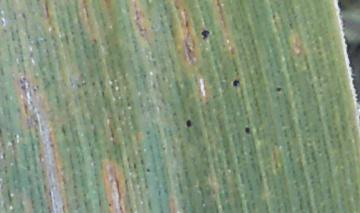tarspot: (201, 29, 209, 40), (232, 79, 240, 88), (185, 119, 192, 127), (144, 166, 151, 174), (245, 125, 251, 134), (277, 86, 282, 92)
